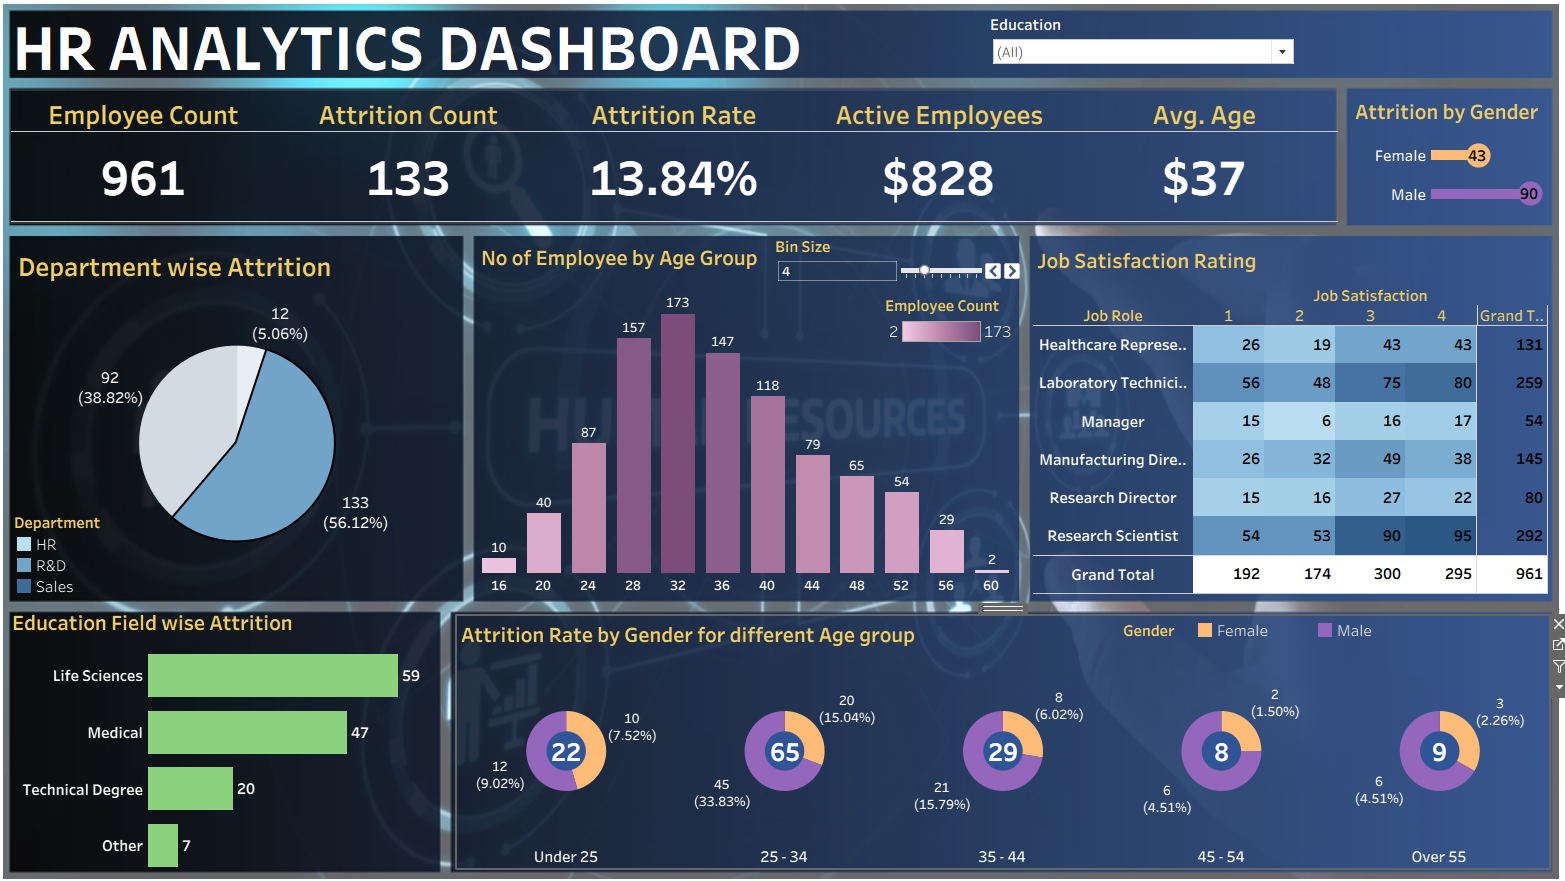

The page's visual inventory and layout, read from the dashboard file:
{"tool":"tableau","page":{"name":"HR ANALYTICS DASHBOARD","canvas":[1580,900],"ordinal":0},"visuals":[{"type":"image","param":"C:/Users/meraj/Downloads/HR background.pptx.png","box":[8,8,1564,884]},{"type":"text","box":[18,20,1540,67]},{"type":"filter","title":"Department wise Attrition","param":"[federated.0mptvxo0z69xmd1dygdyp0jip0ck].[none:Education:nk]","box":[999,22,307,61]},{"type":"worksheet","title":"KPI","mark":"Automatic","box":[20,99,1327,131]},{"type":"worksheet","title":"Attrition by Gender","mark":"Automatic","rows":["Gender"],"cols":["Calculation_1586065170665472","Calculation_1586065170665472"],"box":[1360,101,197,120]},{"type":"parameter","param":"[Parameters].[Parameter 1586065212489731]","box":[784,244,248,67]},{"type":"worksheet","title":"No of Employee by Age Group","mark":"Automatic","rows":["Employee Count"],"cols":["Age (bin)"],"box":[486,247,537,356]},{"type":"worksheet","title":"Job Satisfaction Rating","mark":"Square","rows":["Job Role"],"cols":["Job Satisfaction"],"box":[1042,250,516,352]},{"type":"worksheet","title":"Department wise Attrition","mark":"Pie","box":[23,253,445,347]},{"type":"legend","title":"No of Employee by Age Group","param":"[federated.0mptvxo0z69xmd1dygdyp0jip0ck].[sum:Employee Count:qk]","box":[894,303,131,60]},{"type":"legend","title":"Department wise Attrition","param":"[federated.0mptvxo0z69xmd1dygdyp0jip0ck].[none:Department:nk]","box":[23,520,140,85]},{"type":"worksheet","title":"Education Field wise Attrition","mark":"Automatic","rows":["Education Field"],"cols":["Calculation_1586065170665472"],"box":[17,612,432,270]},{"type":"worksheet","title":"Attrition Rate by Gender for different Age group","mark":"Pie","rows":["Calculation_1781503458504705","Calculation_1781503458504705"],"cols":["CF_age band"],"box":[466,624,1092,252]},{"type":"legend","title":"Attrition Rate by Gender for different Age group","param":"[federated.0mptvxo0z69xmd1dygdyp0jip0ck].[none:Gender:nk]","box":[1132,628,420,31]}]}

Visuals, with their boxes in screenshot pixels (x1, y1, x2, y2), scaled from the page's 1580x900 canvas onto the 1565x881 screenshot:
image: crop(8, 8, 1557, 873)
text: crop(18, 20, 1543, 85)
"Department wise Attrition" filter: crop(990, 22, 1294, 81)
"KPI" worksheet: crop(20, 97, 1334, 225)
"Attrition by Gender" worksheet: crop(1347, 99, 1542, 216)
parameter: crop(777, 239, 1022, 304)
"No of Employee by Age Group" worksheet: crop(481, 242, 1013, 590)
"Job Satisfaction Rating" worksheet (Square marks): crop(1032, 245, 1543, 589)
"Department wise Attrition" worksheet (Pie marks): crop(23, 248, 464, 587)
"No of Employee by Age Group" legend: crop(886, 297, 1015, 355)
"Department wise Attrition" legend: crop(23, 509, 161, 592)
"Education Field wise Attrition" worksheet: crop(17, 599, 445, 863)
"Attrition Rate by Gender for different Age group" worksheet (Pie marks): crop(462, 611, 1543, 858)
"Attrition Rate by Gender for different Age group" legend: crop(1121, 615, 1537, 645)
